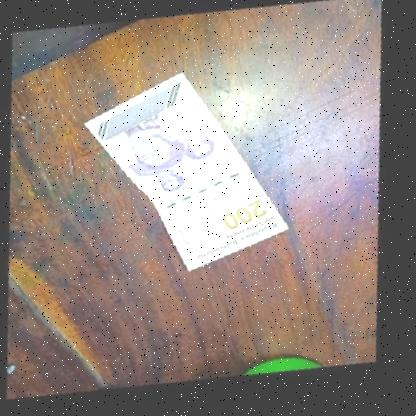vef_front: (64, 60, 313, 288)
